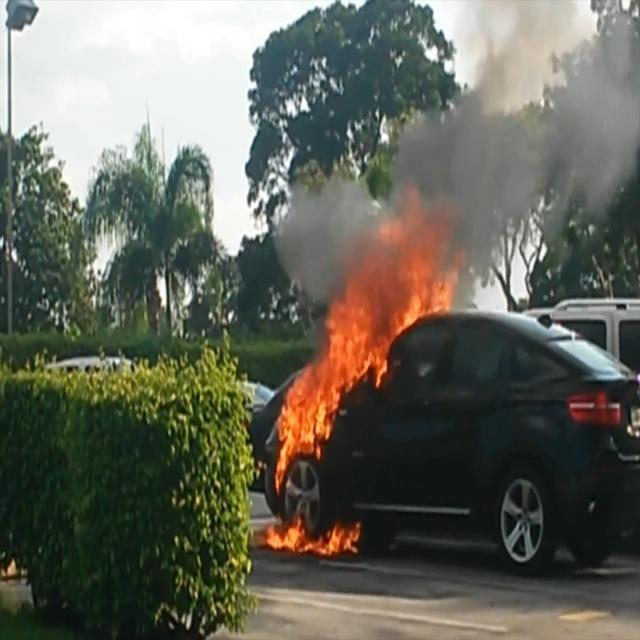fire: (262, 193, 454, 562)
